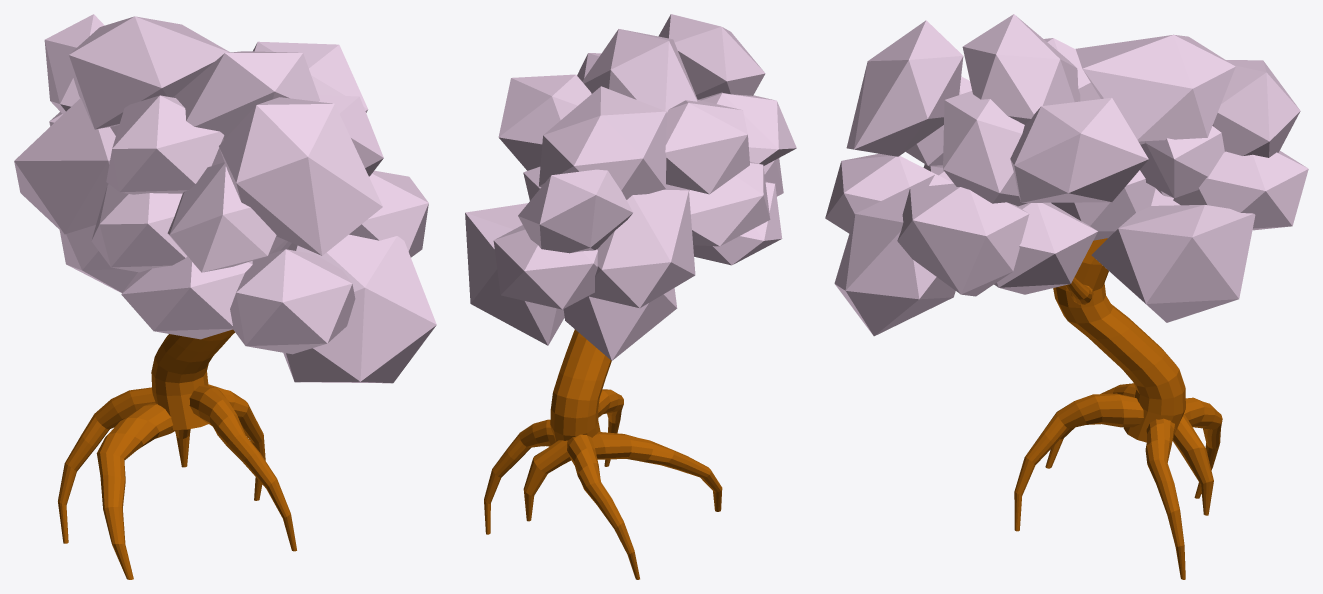
The model's file is huge_tree.fbx.
The picture shows the model from 3 angles, left to right: view 1: azimuth 30°, elevation 25°; view 2: azimuth 150°, elevation 25°; view 3: azimuth 270°, elevation 25°; orthographic projection. The views are drawn at different scales.
Parts seen in each view (by area): view 1: hugetree; view 2: hugetree; view 3: hugetree.
Part boxes in pixels (x1,y1,x2,y2): hugetree: (14, 14, 436, 579); hugetree: (465, 14, 796, 579); hugetree: (825, 14, 1308, 579).
Size of what is drawn, in the model's own units: 1158 by 2099 by 1797.
